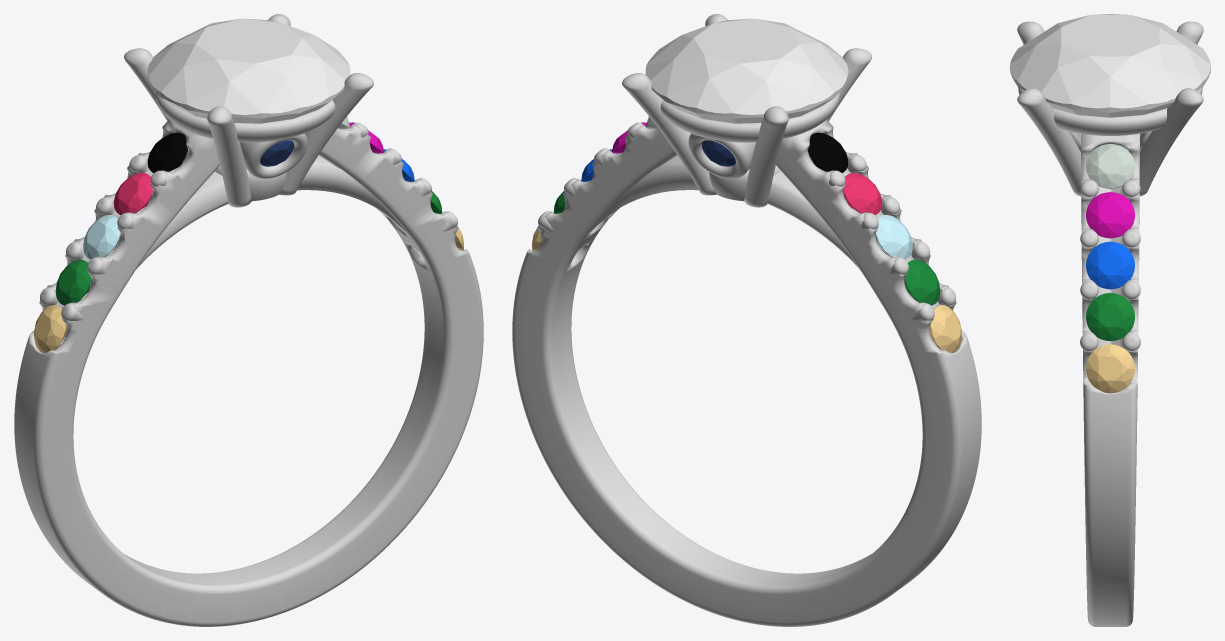
The model's file is V2JamesPTlowerNew.glb.
The picture shows the model from 3 angles, left to right: view 1: azimuth 30°, elevation 25°; view 2: azimuth 150°, elevation 25°; view 3: azimuth 270°, elevation 25°; orthographic projection.
Visible parts, largest first — view 1: V2 PT for 3d model, V2 dia for 3d model, V2 James ruby for 3d model, V2 James aqua for 3d model, V2 James jade for 3d model, V2 James black dia for 3d model, V2 James spessartine garnet for 3d model; view 2: V2 PT for 3d model, V2 dia for 3d model, V2 James aqua for 3d model, V2 James ruby for 3d model, V2 James jade for 3d model, V2 James black dia for 3d model, V2 James spessartine garnet for 3d model; view 3: V2 PT for 3d model, V2 dia for 3d model, V2 James spessartine garnet right side for 3d model, V2 James tsavorite for 3d model, V2 James sapph for 3d model, V2 James pink tourmaline for 3d model, V2 James labradorite for 3d model.
Part boxes in pixels (<box>): V2 PT for 3d model: <box>14,14,483,626</box>; V2 dia for 3d model: <box>147,18,350,123</box>; V2 James ruby for 3d model: <box>113,172,152,214</box>; V2 James aqua for 3d model: <box>83,215,120,259</box>; V2 James jade for 3d model: <box>55,259,91,305</box>; V2 James black dia for 3d model: <box>147,132,187,172</box>; V2 James spessartine garnet for 3d model: <box>34,305,66,353</box>; V2 PT for 3d model: <box>512,14,981,626</box>; V2 dia for 3d model: <box>645,18,848,123</box>; V2 James aqua for 3d model: <box>875,215,912,259</box>; V2 James ruby for 3d model: <box>843,172,882,214</box>; V2 James jade for 3d model: <box>904,259,940,305</box>; V2 James black dia for 3d model: <box>808,132,848,172</box>; V2 James spessartine garnet for 3d model: <box>929,305,961,353</box>; V2 PT for 3d model: <box>1017,21,1203,626</box>; V2 dia for 3d model: <box>1010,14,1210,117</box>; V2 James spessartine garnet right side for 3d model: <box>1086,344,1134,393</box>; V2 James tsavorite for 3d model: <box>1086,293,1134,341</box>; V2 James sapph for 3d model: <box>1086,241,1134,289</box>; V2 James pink tourmaline for 3d model: <box>1086,192,1134,238</box>; V2 James labradorite for 3d model: <box>1086,144,1134,188</box>.
Size of the model in its own units: 20.94 by 25.58 by 8.2.
